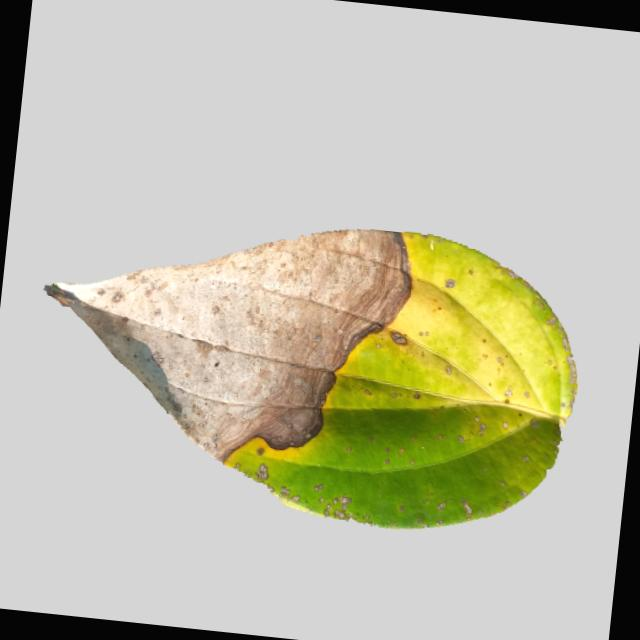leaf-blight: (13, 190, 584, 542)
